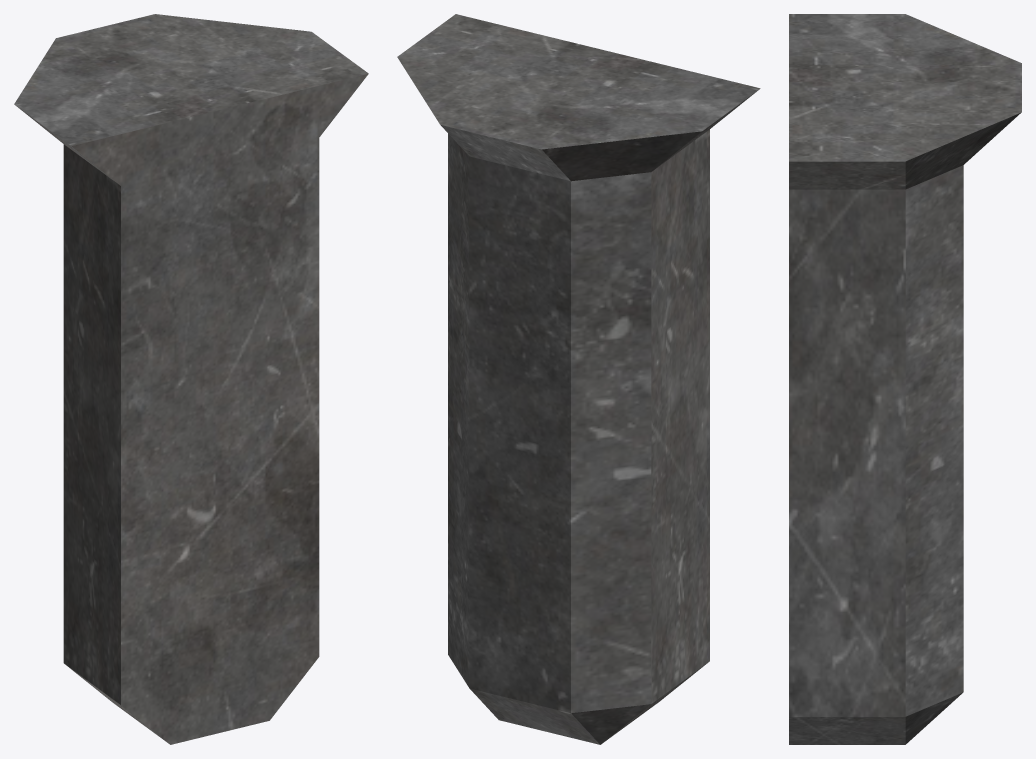
File: MonitorStand.fbx
3 renders of one model, left to right at view 1: azimuth 30°, elevation 25°; view 2: azimuth 150°, elevation 25°; view 3: azimuth 270°, elevation 25°, orthographic. The views are drawn at different scales.
Visible parts, largest first — view 1: Monitor Stand; view 2: Monitor Stand; view 3: Monitor Stand.
Part boxes in pixels (bbox=[...]): Monitor Stand: bbox=[14, 14, 368, 744]; Monitor Stand: bbox=[397, 14, 760, 744]; Monitor Stand: bbox=[789, 14, 1021, 744].
Bounding box in the file's own units: 0.72 × 0.48 × 1.44.
1 material, 1 textured.
